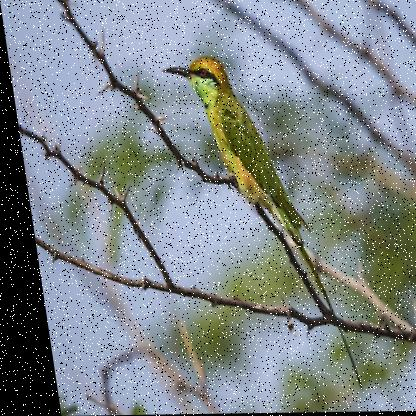Burung: (157, 55, 350, 391)
